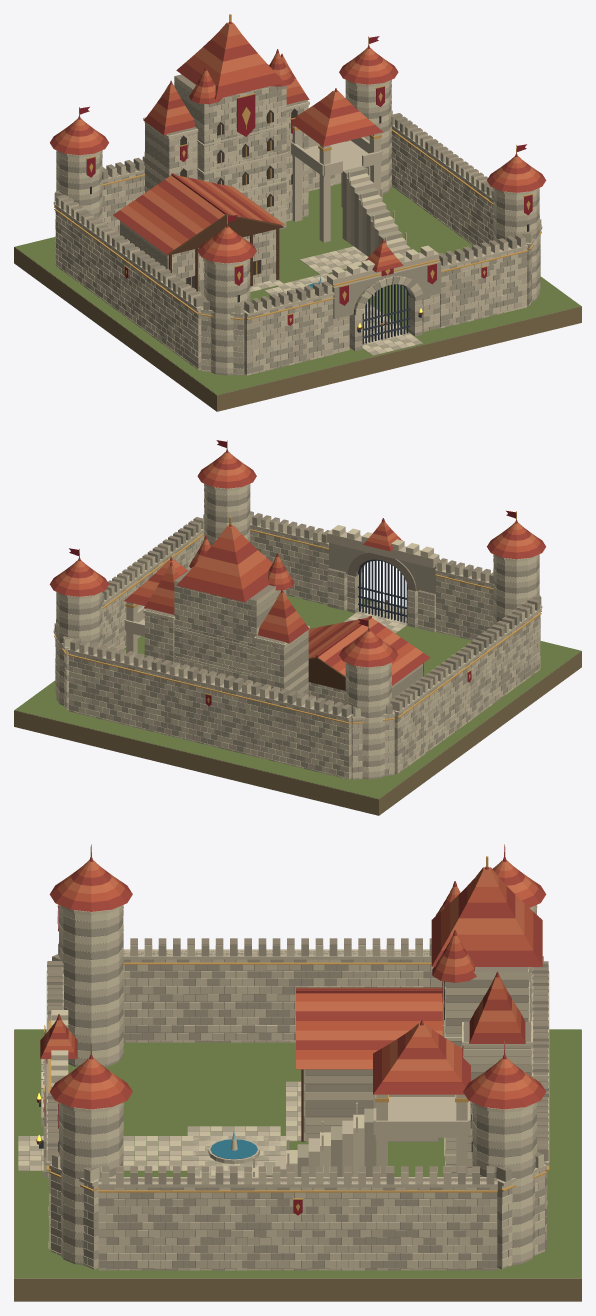
Rendered from stockade-nivel-9.glb.
The picture shows the model from 3 angles, top to bottom: view 1: azimuth 30°, elevation 25°; view 2: azimuth 150°, elevation 25°; view 3: azimuth 270°, elevation 25°; orthographic projection. The views are drawn at different scales.
Parts seen in each view (by area): view 1: stone_9_cfc1a3, stone_9_ded0ad, stone_9_b4a98f, stone_9_738449, stone_9_9e4235, stone_9_8d7955, stone_9_b9583c, stone_9_c66c49, stone_9_9a8d77, stone_9_dba85a, stone_9_992b31, stone_9_63422c (+3 smaller); view 2: stone_9_cfc1a3, stone_9_b4a98f, stone_9_ded0ad, stone_9_738449, stone_9_8d7955, stone_9_9e4235, stone_9_9a8d77, stone_9_b9583c, stone_9_c66c49, stone_9_dba85a, right_9_3a424d.001, left_9_3a424d.001 (+1 smaller); view 3: stone_9_cfc1a3, stone_9_ded0ad, stone_9_738449, stone_9_b4a98f, stone_9_9a8d77, stone_9_9e4235, stone_9_8d7955, stone_9_b9583c, stone_9_c66c49, stone_9_dba85a, stone_9_387f94.
Boxes of the visible parts, x1,y1,x2,y2 form: stone_9_cfc1a3: [53, 82, 542, 375]; stone_9_ded0ad: [55, 76, 541, 375]; stone_9_b4a98f: [54, 85, 540, 375]; stone_9_738449: [15, 183, 580, 394]; stone_9_9e4235: [50, 21, 546, 272]; stone_9_8d7955: [14, 247, 581, 411]; stone_9_b9583c: [55, 31, 540, 267]; stone_9_c66c49: [60, 22, 535, 262]; stone_9_9a8d77: [14, 64, 581, 395]; stone_9_dba85a: [54, 36, 541, 322]; stone_9_992b31: [79, 36, 532, 325]; stone_9_63422c: [167, 214, 283, 291]; stone_9_cfc1a3: [53, 487, 542, 779]; stone_9_b4a98f: [54, 492, 541, 779]; stone_9_ded0ad: [55, 483, 540, 779]; stone_9_738449: [15, 595, 580, 798]; stone_9_8d7955: [14, 651, 581, 815]; stone_9_9e4235: [49, 449, 545, 685]; stone_9_9a8d77: [14, 494, 581, 799]; stone_9_b9583c: [55, 456, 540, 671]; stone_9_c66c49: [60, 452, 535, 675]; stone_9_dba85a: [54, 440, 541, 724]; right_9_3a424d.001: [358, 559, 383, 617]; left_9_3a424d.001: [383, 561, 407, 622]; stone_9_cfc1a3: [18, 909, 549, 1270]; stone_9_ded0ad: [18, 905, 548, 1270]; stone_9_738449: [14, 1029, 581, 1278]; stone_9_b4a98f: [18, 916, 548, 1270]; stone_9_9a8d77: [14, 920, 581, 1278]; stone_9_9e4235: [40, 857, 546, 1109]; stone_9_8d7955: [14, 1030, 581, 1301]; stone_9_b9583c: [43, 866, 538, 1099]; stone_9_c66c49: [46, 860, 531, 1091]; stone_9_dba85a: [44, 844, 549, 1210]; stone_9_387f94: [210, 1139, 257, 1159].
Bounding box in the file's own units: 32.8 × 19.67 × 31.6.
